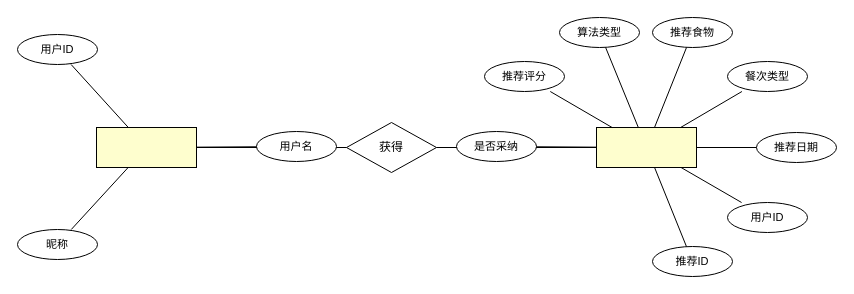
Some shapes in this 854 by 294 pixel diagram are drawn without their labels. The shapes that lost their labels are listed below. From the top down, each one's centre as x and y in pixels, then its label:
the point at 146,147: 用户
the point at 646,147: 推荐记录
